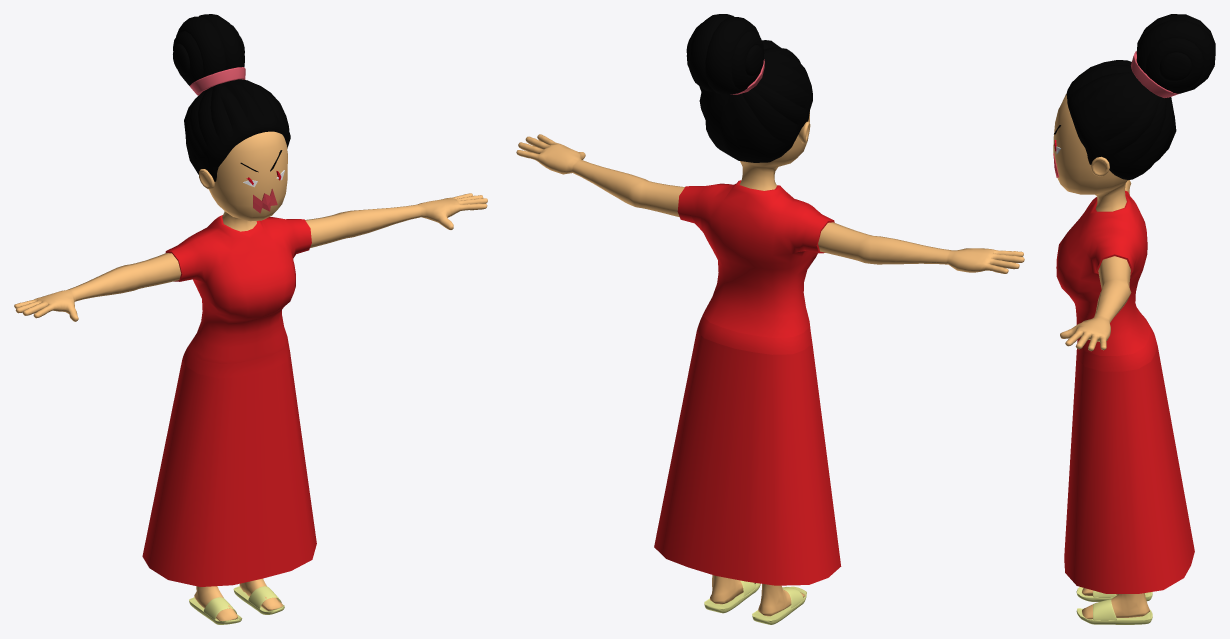
The model's file is ibuk marah pake bone.fbx.
The picture shows the model from 3 angles, left to right: view 1: azimuth 30°, elevation 25°; view 2: azimuth 150°, elevation 25°; view 3: azimuth 270°, elevation 25°; orthographic projection. The views are drawn at different scales.
Visible parts, largest first — view 1: Daster, Body, Rambut, Sandal kanan, Sandal kiri; view 2: Daster, Rambut, Body, Sandal kiri; view 3: Daster, Rambut, Body, Sandal kanan, Sandal kiri.
Boxes of the visible parts, bbox=[...] form: Daster: bbox=[142, 215, 316, 586]; Body: bbox=[14, 131, 487, 620]; Rambut: bbox=[173, 14, 290, 181]; Sandal kanan: bbox=[233, 586, 284, 614]; Sandal kiri: bbox=[189, 597, 242, 624]; Daster: bbox=[654, 180, 841, 585]; Rambut: bbox=[686, 14, 812, 162]; Body: bbox=[516, 112, 1024, 616]; Sandal kiri: bbox=[752, 586, 806, 624]; Daster: bbox=[1056, 190, 1194, 593]; Rambut: bbox=[1066, 14, 1215, 180]; Body: bbox=[1053, 94, 1149, 619]; Sandal kanan: bbox=[1076, 599, 1152, 624]; Sandal kiri: bbox=[1076, 587, 1152, 601].
Size of the model in its own units: 153 by 179 by 44.61.
